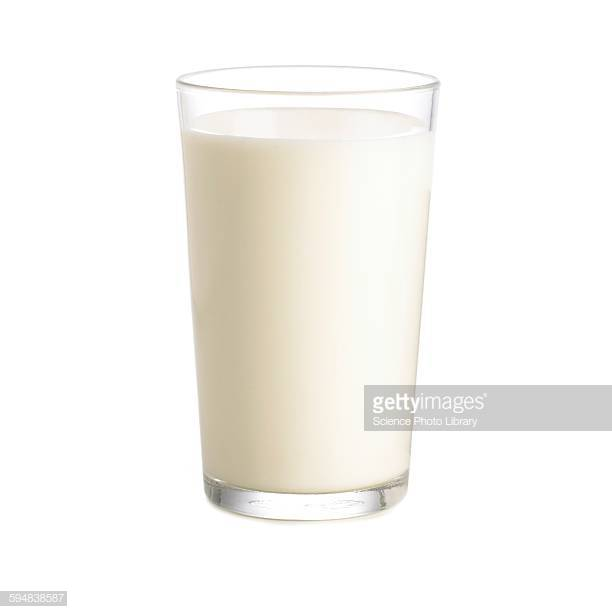glass of milk: (176, 73, 342, 527)
